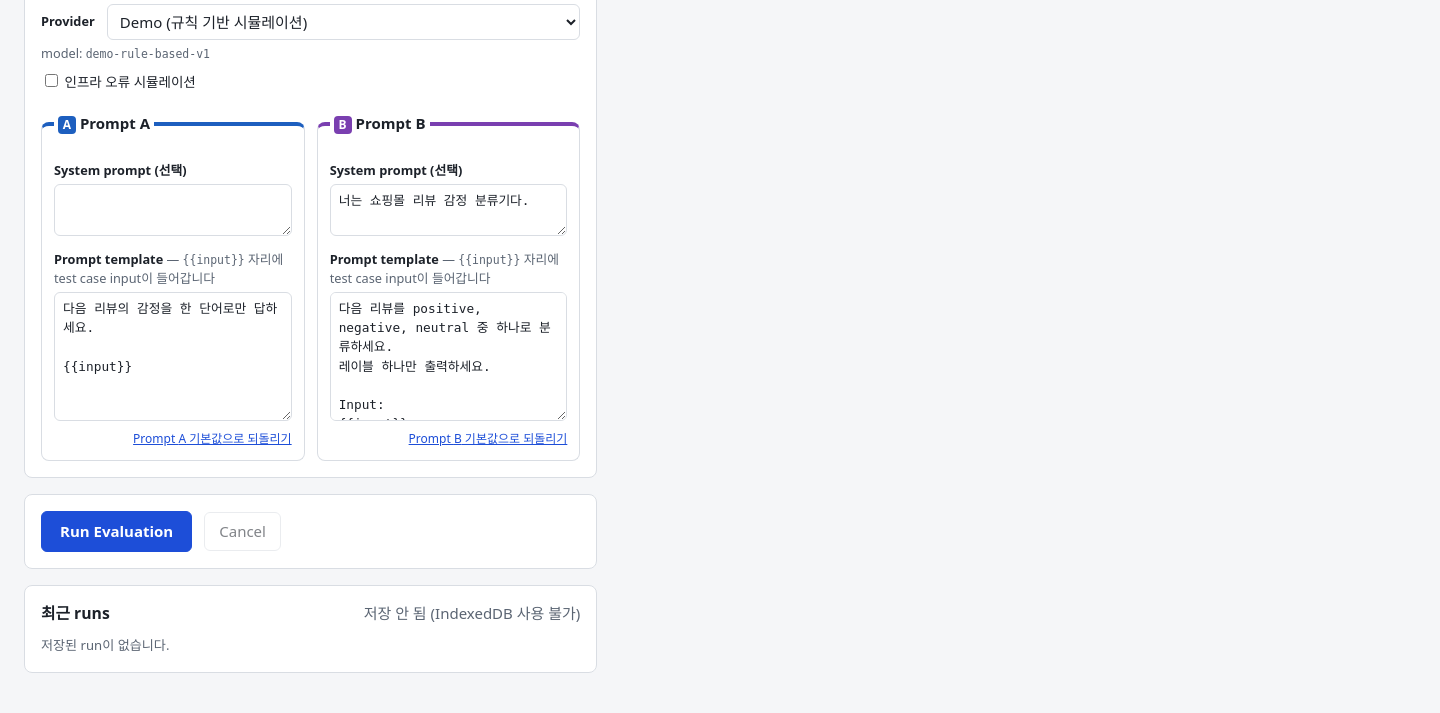
Test: App › case detail에서 rendered prompt, output, reason을 보여준다
(page scrolled)
Click the button "Run Evaluation" at (117, 532), box [41,511,192,552]
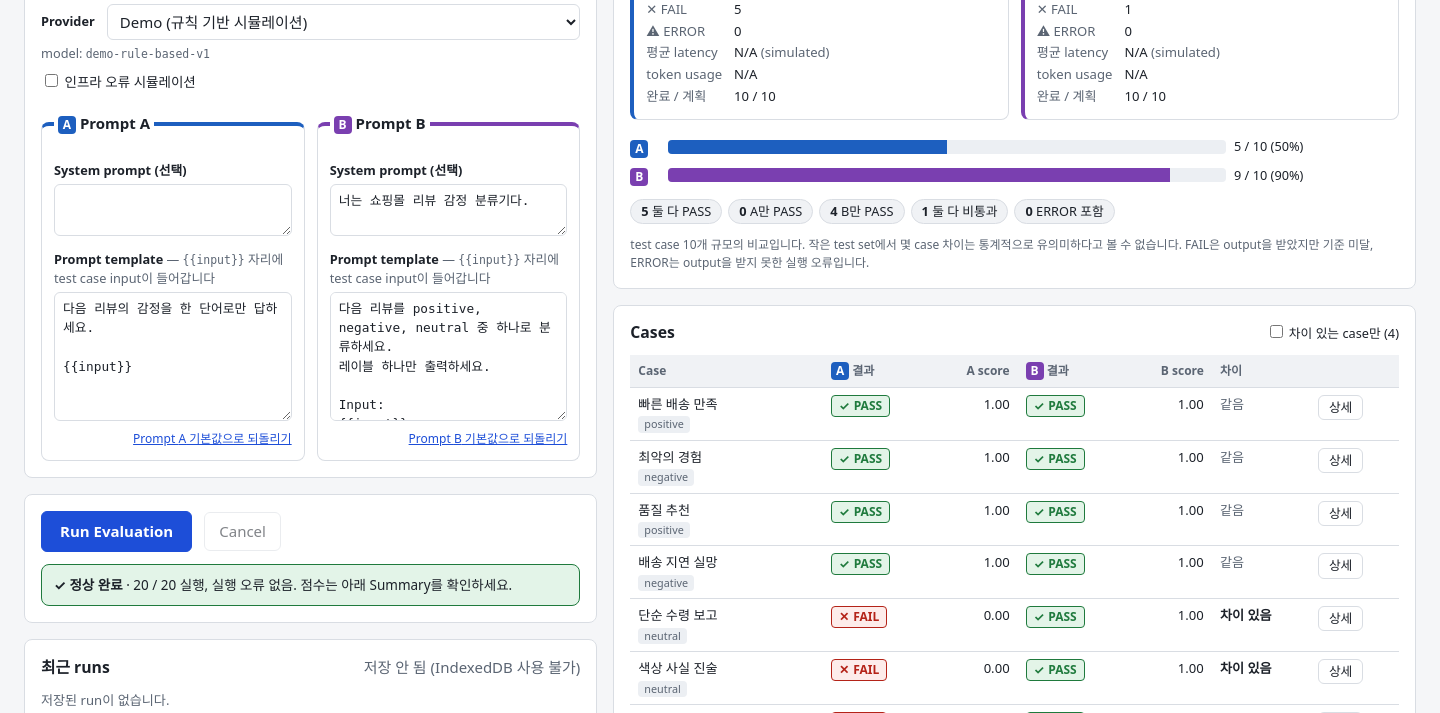
Click the button with aria-label "단순 수령 보고 상세 보기" at (1341, 619), box [1318,606,1363,631]
(page scrolled)
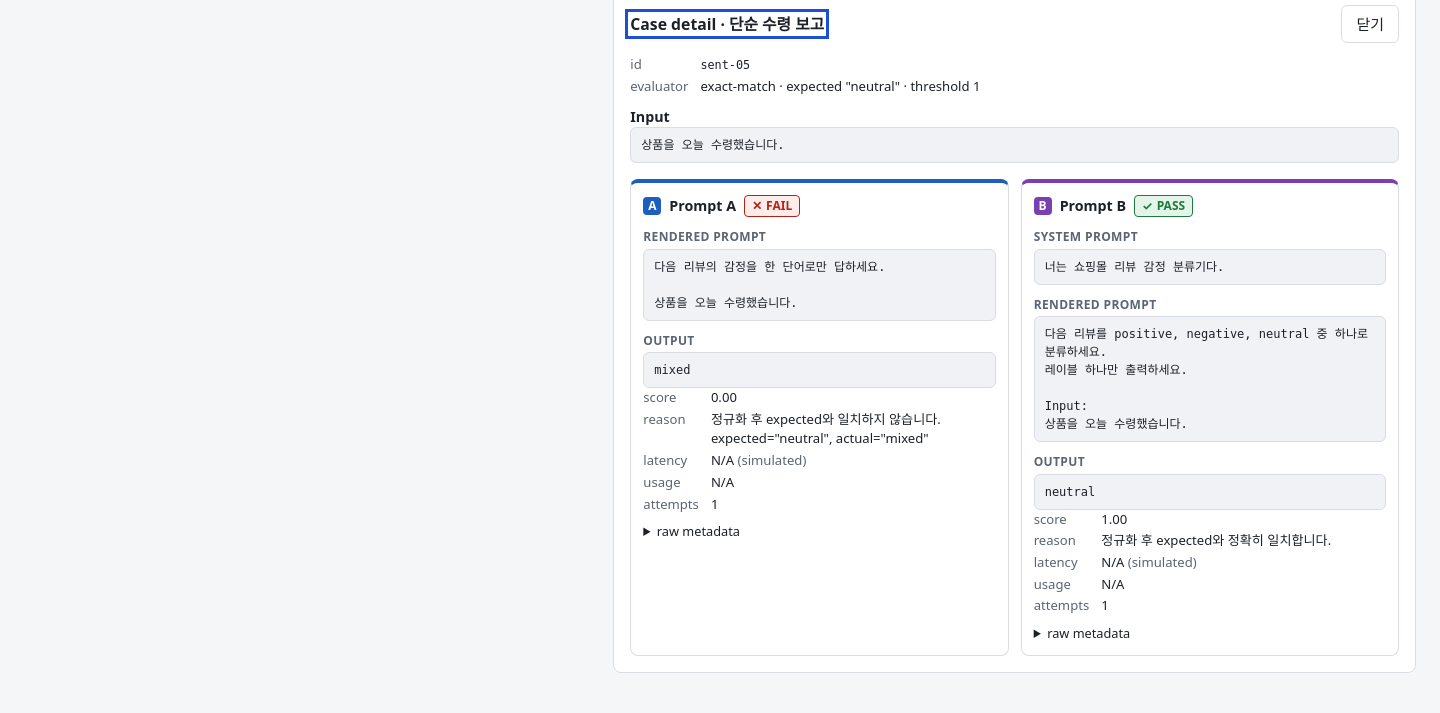
Expected: the text "mixed" is shown, [643,352,996,388]
Expected: the text "expected=\"neutral\", actual=\"mixed\"" is shown, [711,410,941,448]
Press Escape
(page scrolled)
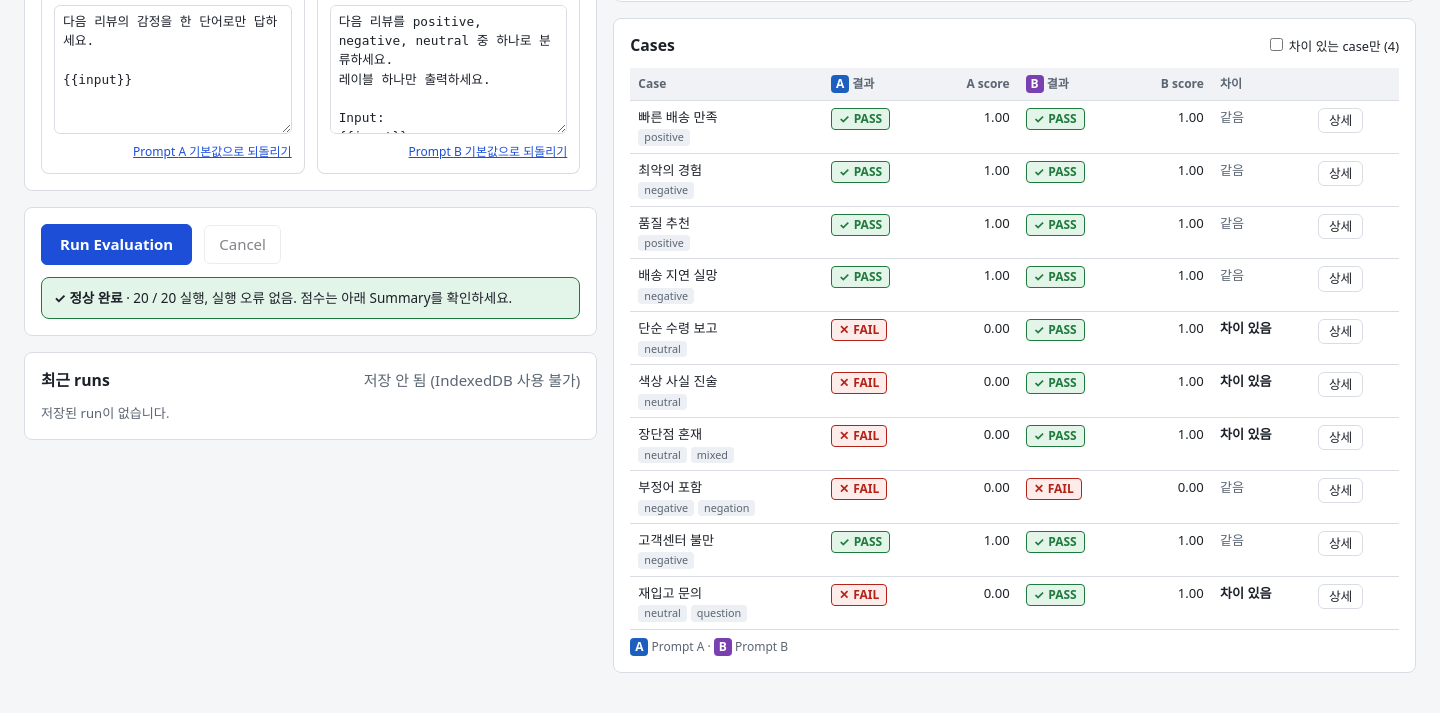
Expected: the heading "Case detail" is gone
